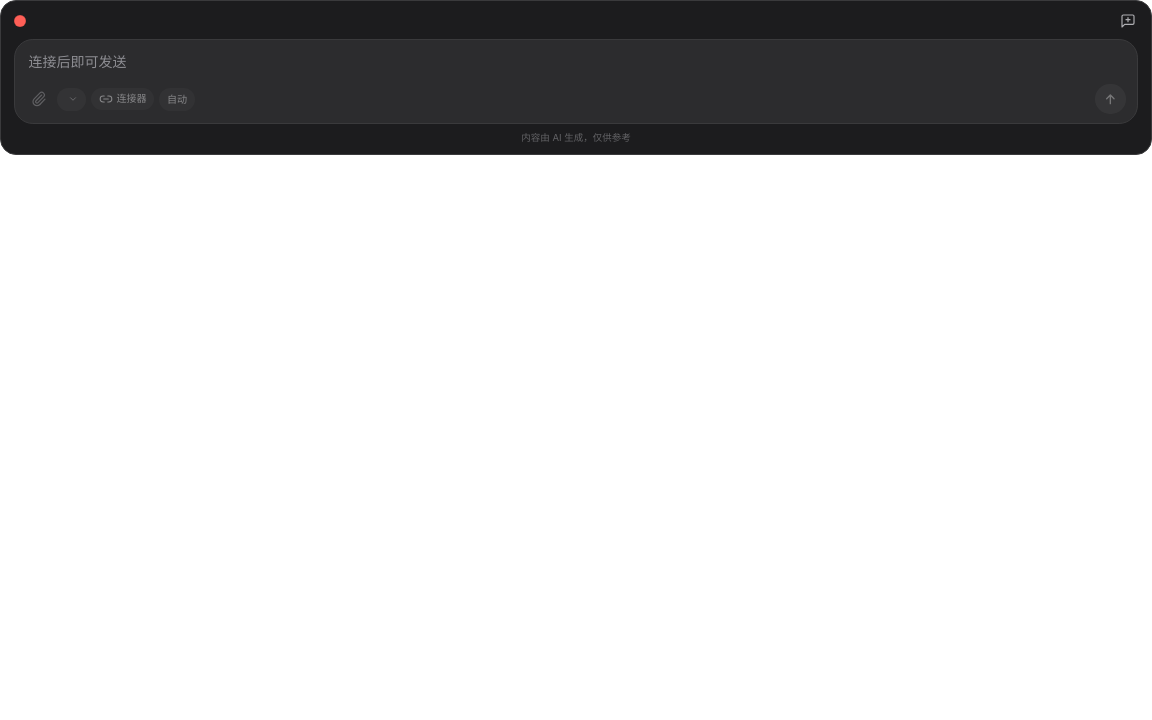
ChatWindow › 流式期间可继续输入并排队，状态提示会随工具事件切换
The width and height of the screenshot is (1152, 720).
Expected: the dropdown named "选择代理" is shown, [57,88,86,111]
Type "第一句" into the text box named "消息" at (576, 67), box [26,50,1126,84]
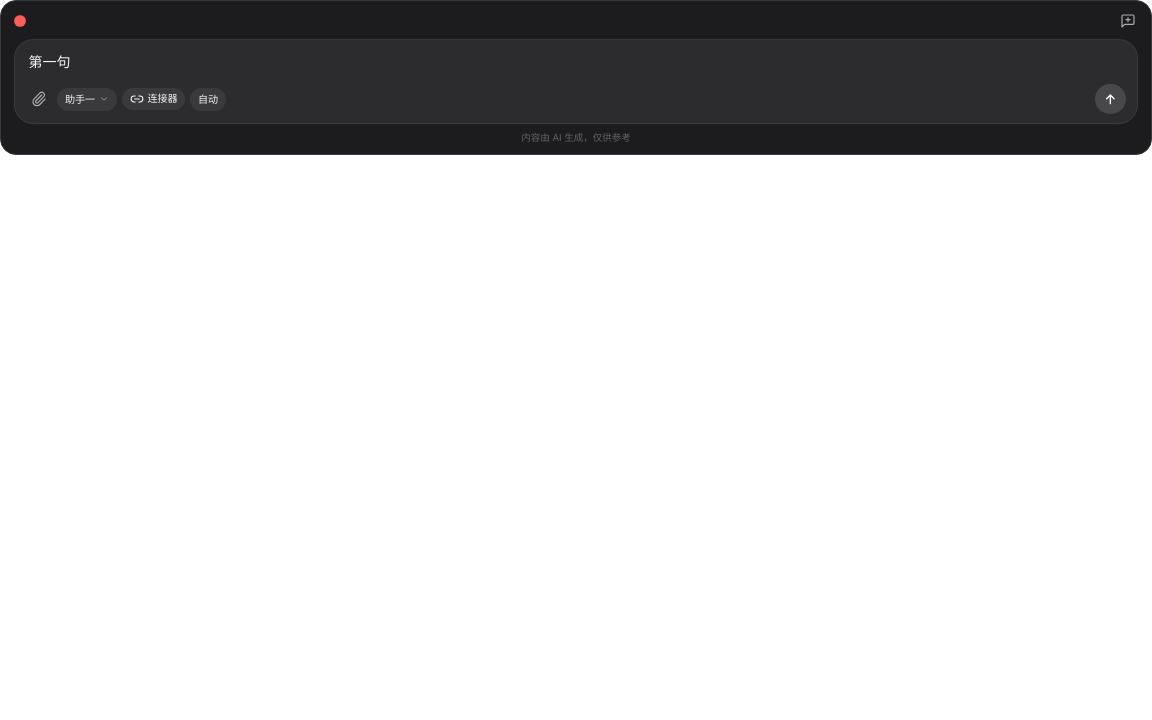
Click the button named "发送" at (1110, 99), box [1095,84,1126,114]
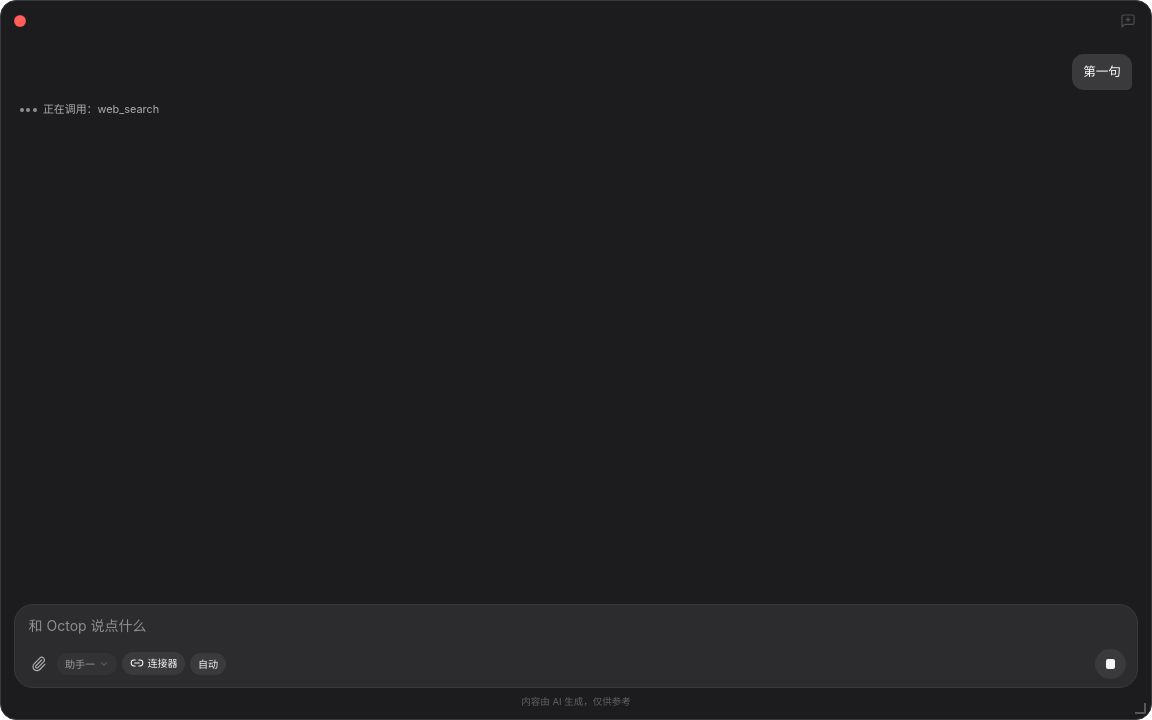
Now the text "正在调用：web_search" is shown, box [43,102,159,118]
Type "排队的第二句" into the text box named "消息" at (576, 632), box [26,615,1126,649]
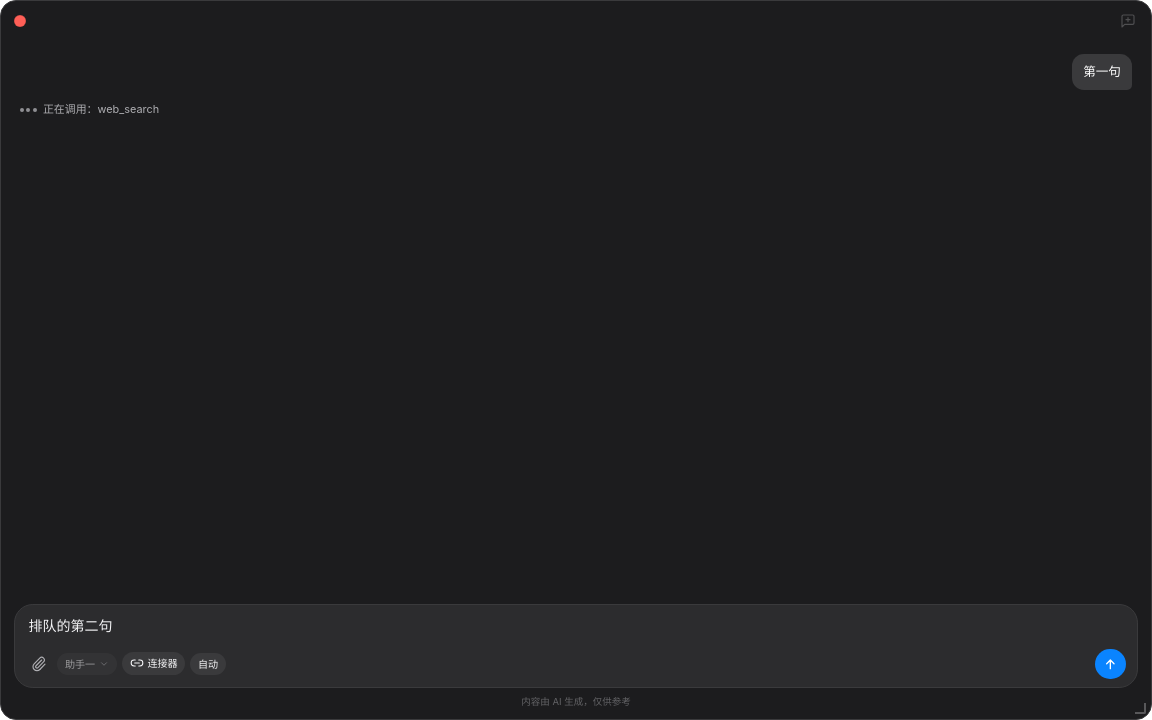
Click the button named "加入队列" at (1110, 664), box [1095,649,1126,679]
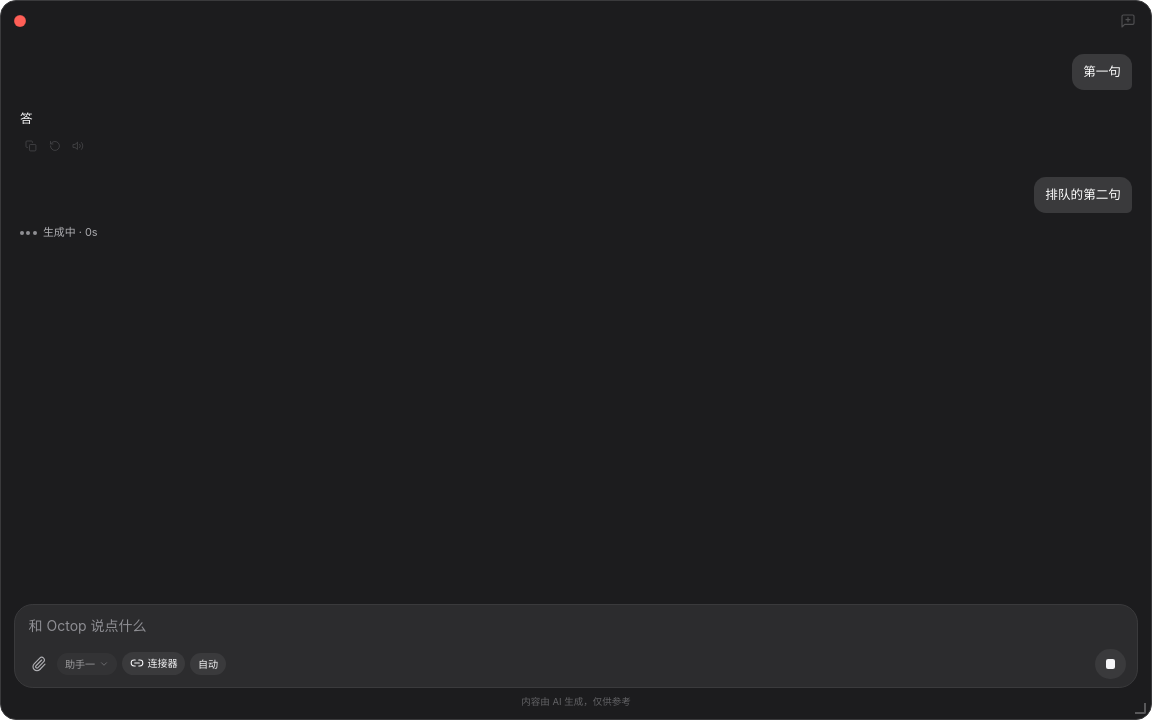
Now the text "排队的第二句" is shown, box [1045,186,1121,205]
